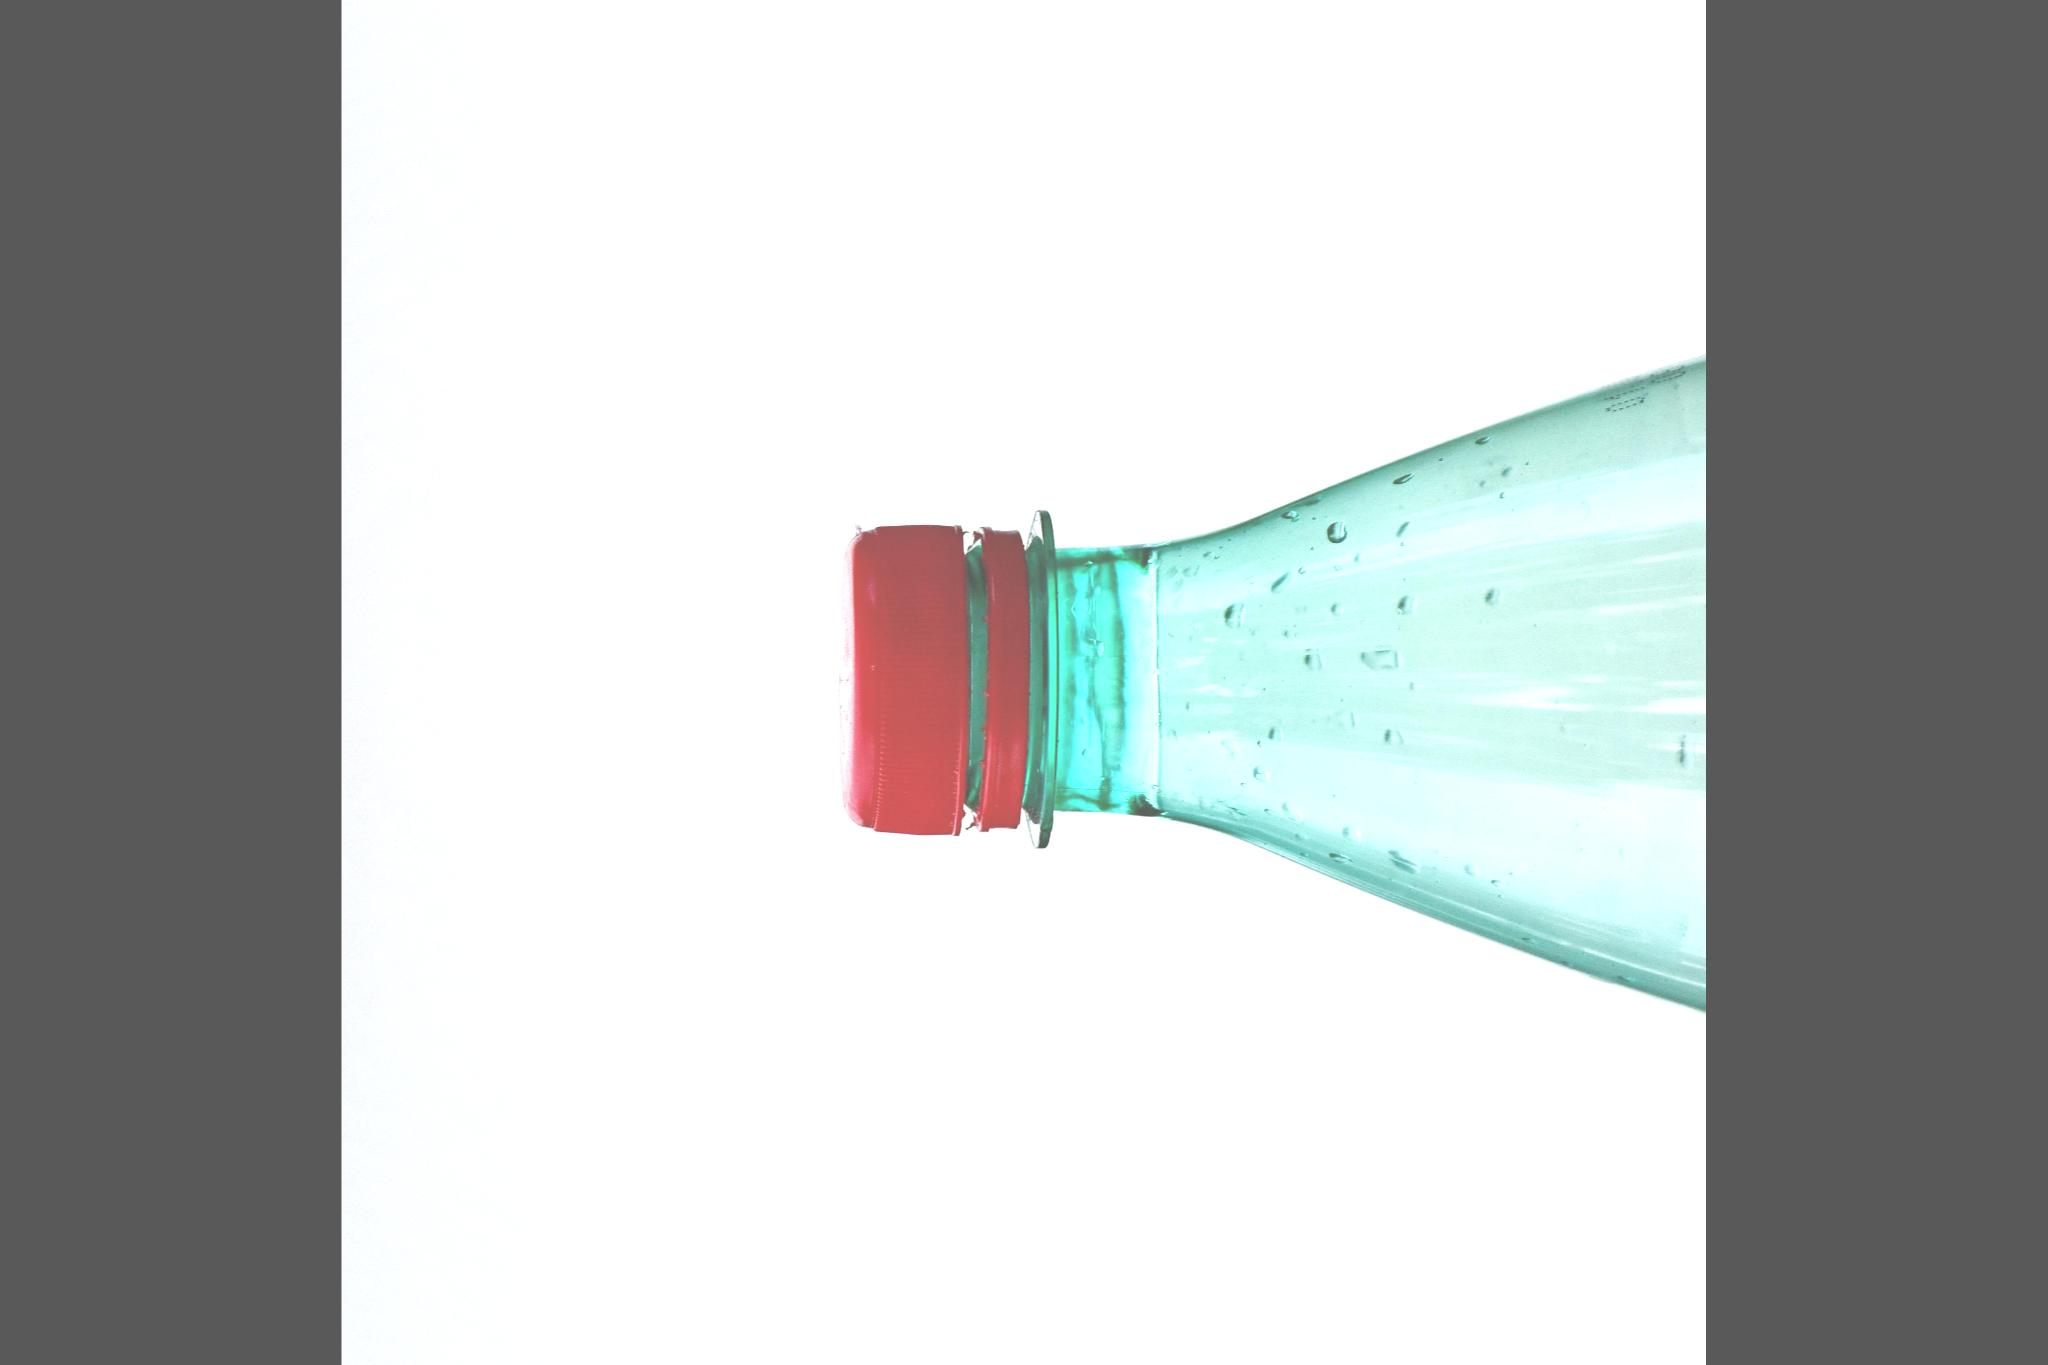bottle: (792, 329, 1706, 1108)
